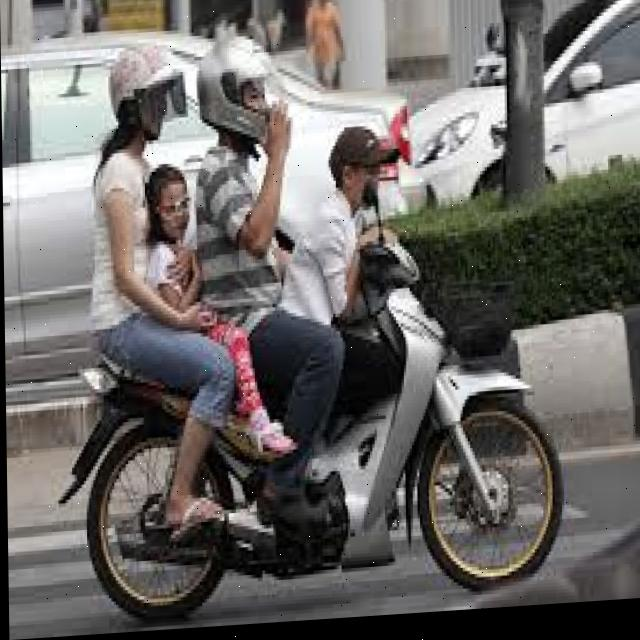Helmet: (195, 33, 283, 152), (105, 42, 183, 120)
